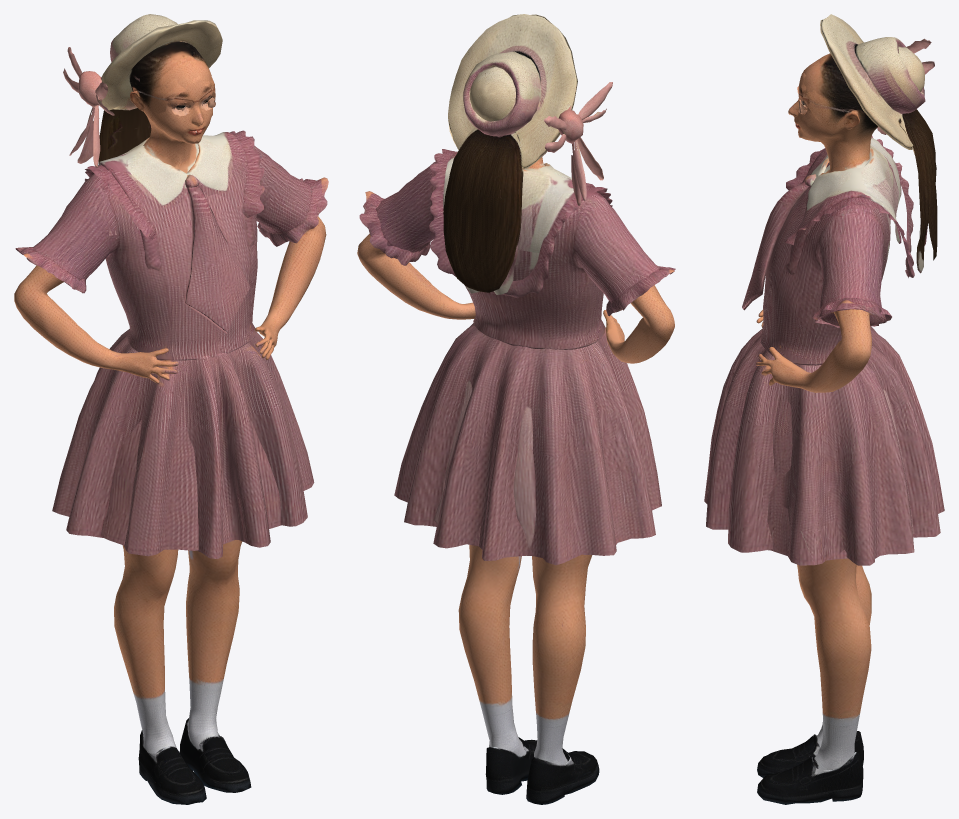
The model's file is yuri-meshy.glb.
The picture shows the model from 3 angles, left to right: view 1: azimuth 30°, elevation 25°; view 2: azimuth 150°, elevation 25°; view 3: azimuth 270°, elevation 25°; orthographic projection. The views are drawn at different scales.
Parts seen in each view (by area): view 1: mesh_node; view 2: mesh_node; view 3: mesh_node.
Boxes of the visible parts, <box> form: mesh_node: <box>14,14,328,804</box>; mesh_node: <box>357,14,675,804</box>; mesh_node: <box>704,14,944,804</box>.
Bounding box in the file's own units: 0.4268 × 1 × 0.2871.
1 material, 1 textured.
